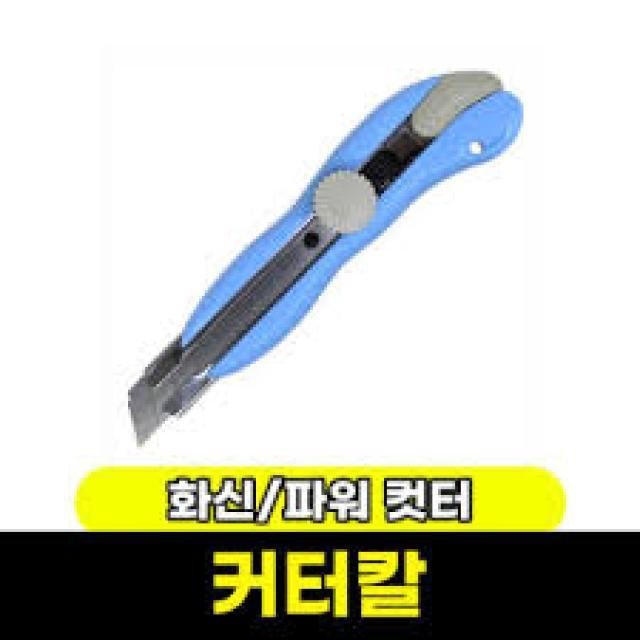cutter: (115, 63, 527, 454)
